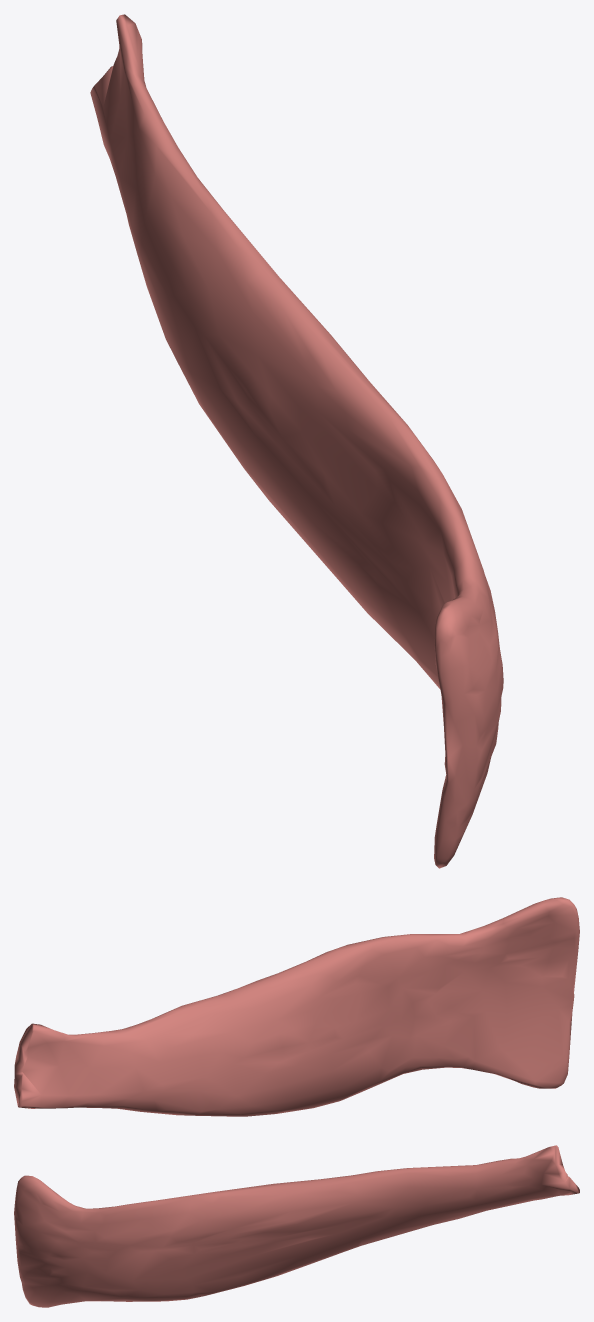
3 renders of one model, top to bottom at view 1: azimuth 30°, elevation 25°; view 2: azimuth 150°, elevation 25°; view 3: azimuth 270°, elevation 25°, orthographic. The views are drawn at different scales.
Parts seen in each view (by area): view 1: ZA_a5e294f1dd9097d2; view 2: ZA_a5e294f1dd9097d2; view 3: ZA_a5e294f1dd9097d2.
Boxes of the visible parts, x1=… form: ZA_a5e294f1dd9097d2: x1=90, y1=14, x2=503, y2=868; ZA_a5e294f1dd9097d2: x1=14, y1=897, x2=579, y2=1116; ZA_a5e294f1dd9097d2: x1=14, y1=1145, x2=579, y2=1307.
Size of the model in its own units: 0.01 by 0.0166 by 0.0404.
